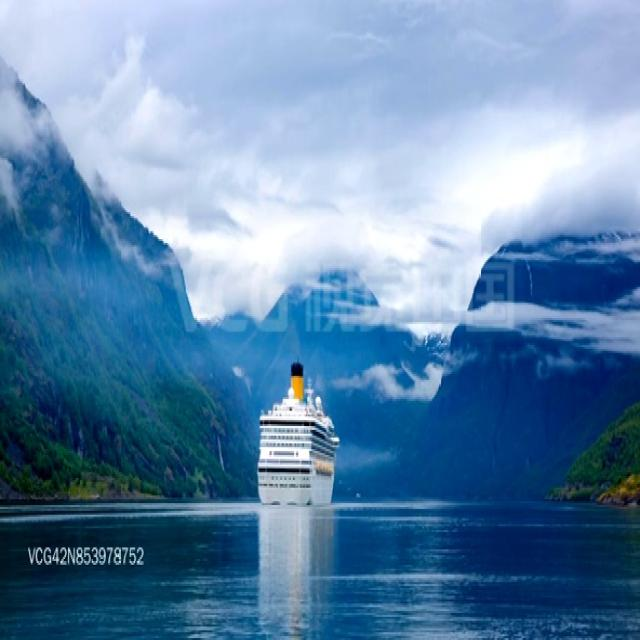passenger ship: (256, 359, 337, 503)
